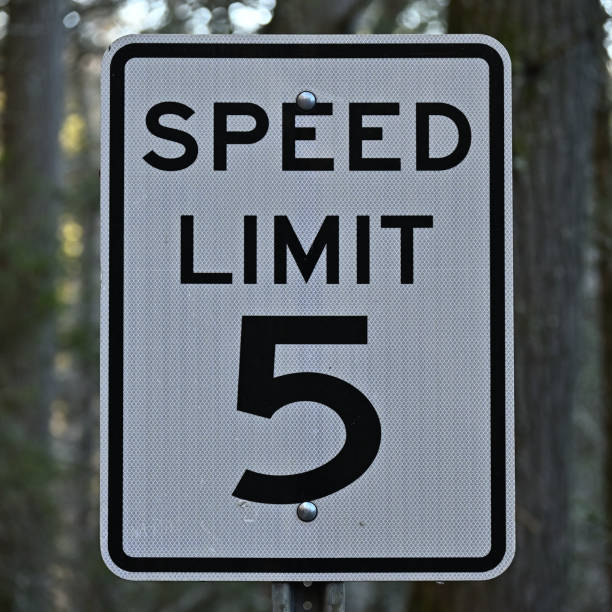SpeedLimitSign: (102, 31, 515, 581)
